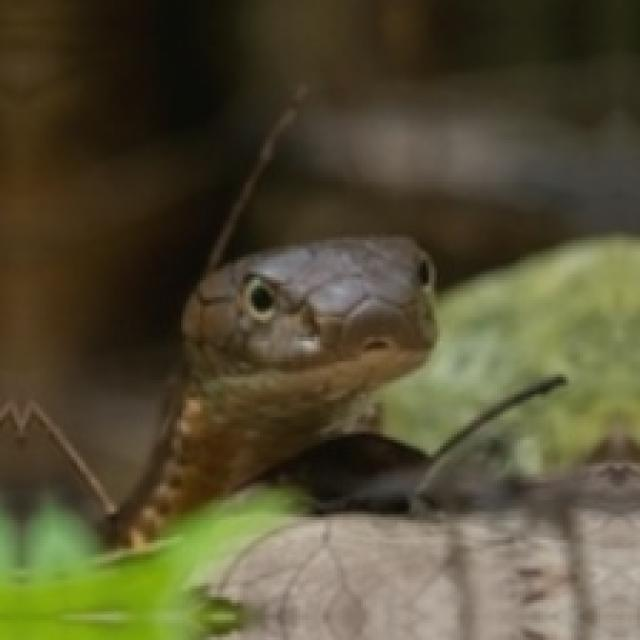king cobra: (114, 97, 434, 543)
